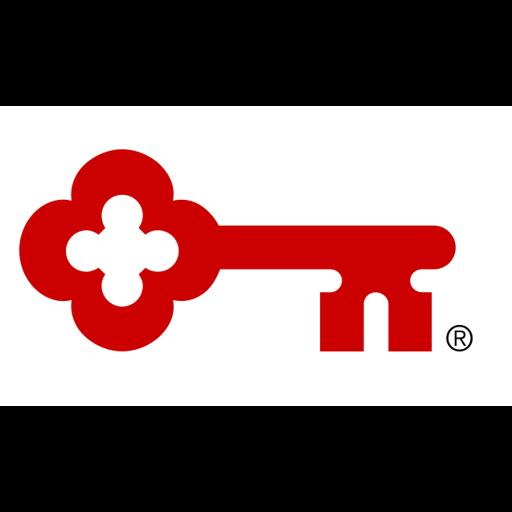Key Bank: (0, 106, 512, 406)
